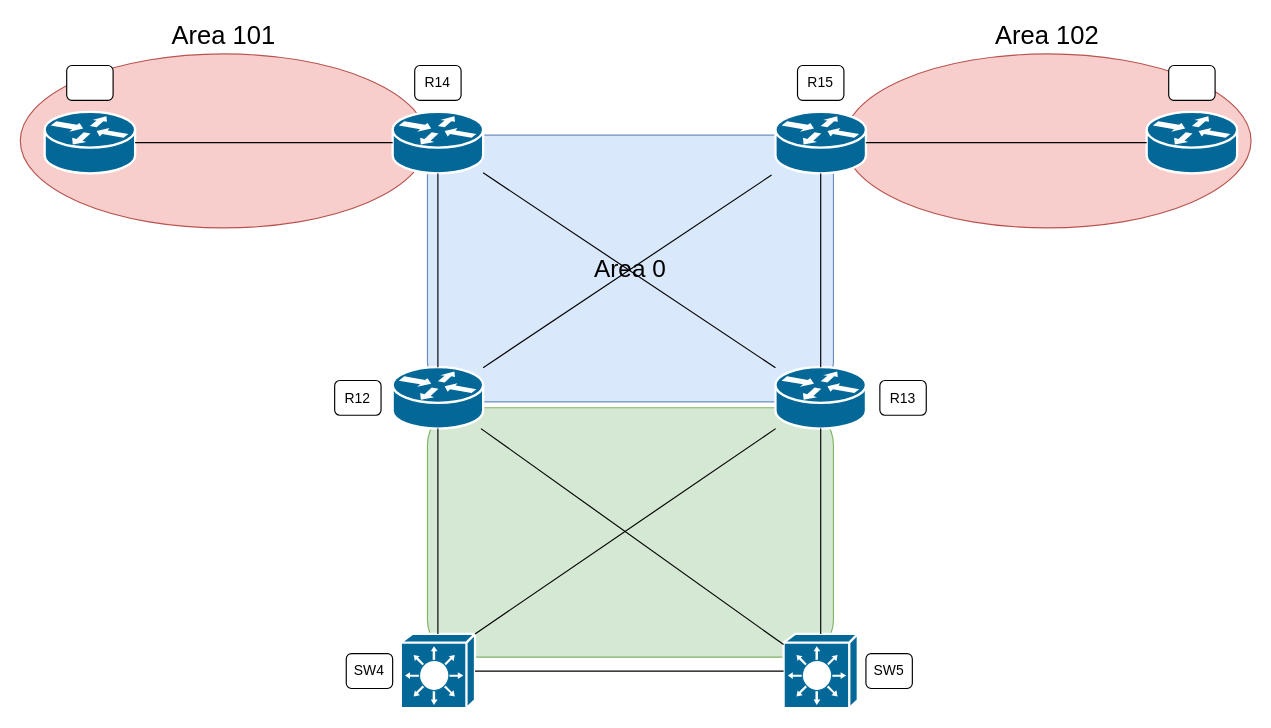
This 1271x728 diagram has some shape labels left out. The shapes that lost their labels are listed below. From the top down, each one's centre as x and y in pixels, then its label:
At (x=89, y=82): "R19".
At (x=1191, y=82): "R20".
At (x=629, y=532): "Area 10".
